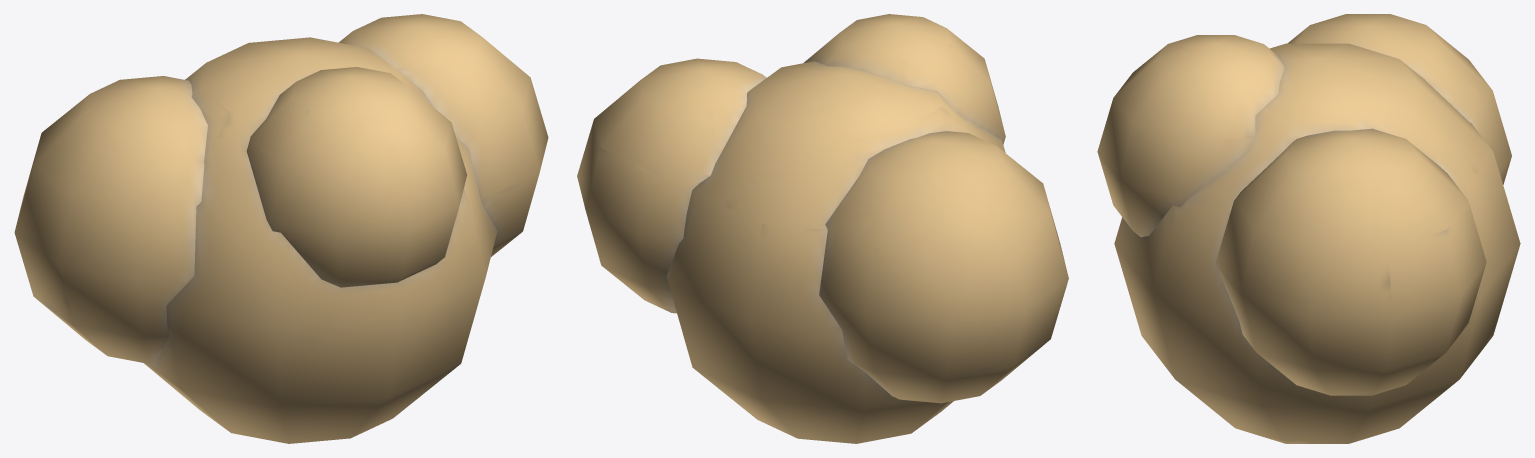
Rendered from fx_puff.glb.
The picture shows the model from 3 angles, left to right: view 1: azimuth 30°, elevation 25°; view 2: azimuth 150°, elevation 25°; view 3: azimuth 270°, elevation 25°; orthographic projection. The views are drawn at different scales.
Parts seen in each view (by area): view 1: SM_FxPuff; view 2: SM_FxPuff; view 3: SM_FxPuff.
Part boxes in pixels (left/top/right/bottom): SM_FxPuff: left=14, top=14, right=548, bottom=443; SM_FxPuff: left=577, top=14, right=1068, bottom=443; SM_FxPuff: left=1097, top=14, right=1520, bottom=443.
Size of the model in its own units: 0.3269 by 0.25 by 0.25.
1 material, 1 textured.
